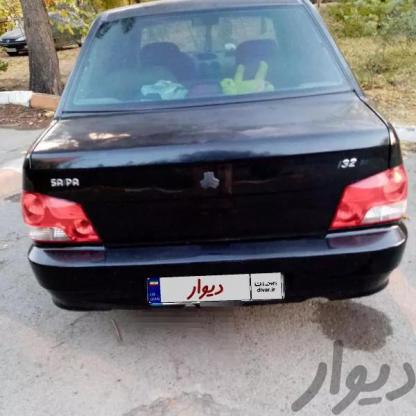Car: (0, 0, 410, 324), (0, 5, 84, 75)
